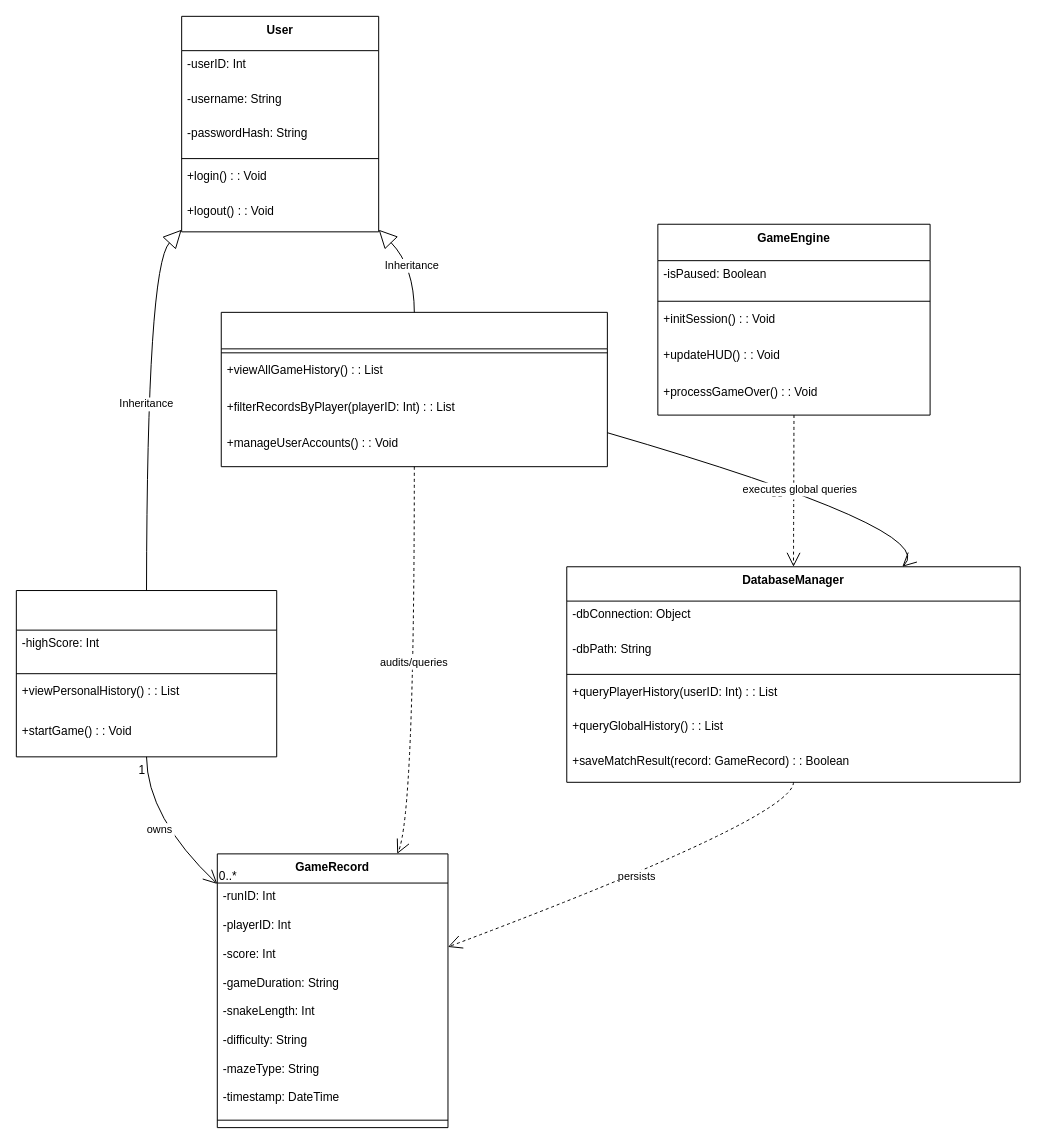
This 1037x1143 diagram has some shape labels left out. The box of each missing label's shape, as (x1, y1, x2, y2) in pixels:
Administrator: (220, 311, 607, 467)
Player: (15, 590, 277, 757)
